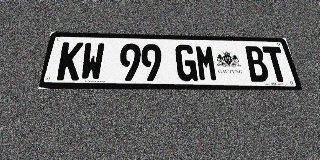9: (119, 43, 141, 81), (141, 44, 162, 81)
B: (243, 46, 271, 82)
G: (175, 44, 198, 81)
K: (56, 42, 84, 80)
M: (195, 45, 219, 81)
T: (262, 46, 290, 82)
W: (79, 42, 105, 80)
